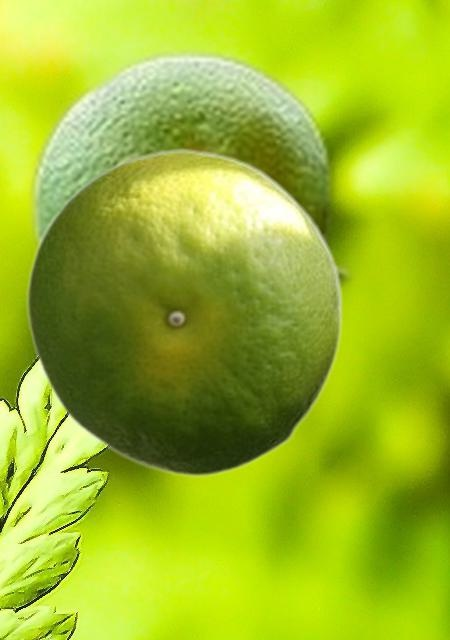dalandan: (25, 147, 342, 477), (25, 44, 356, 293)
